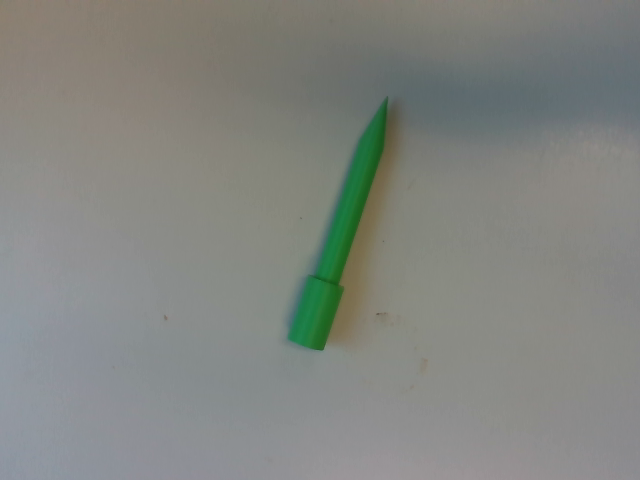Probe: (281, 87, 396, 358)
